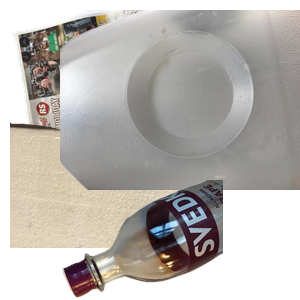glass: (60, 180, 300, 300)
paper: (10, 10, 210, 175)
plastic: (60, 10, 300, 190)
trash: (10, 120, 207, 300)
